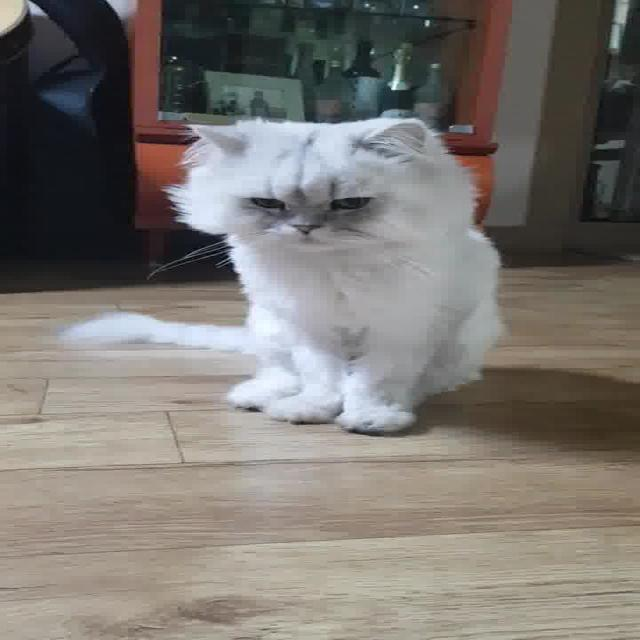cat: (40, 101, 572, 445)
